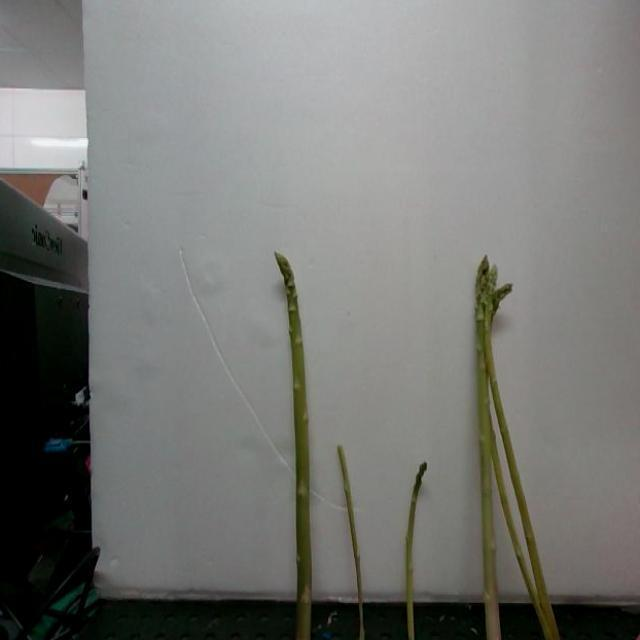aspargus: (277, 255, 313, 640), (476, 262, 504, 640), (402, 466, 430, 639)
